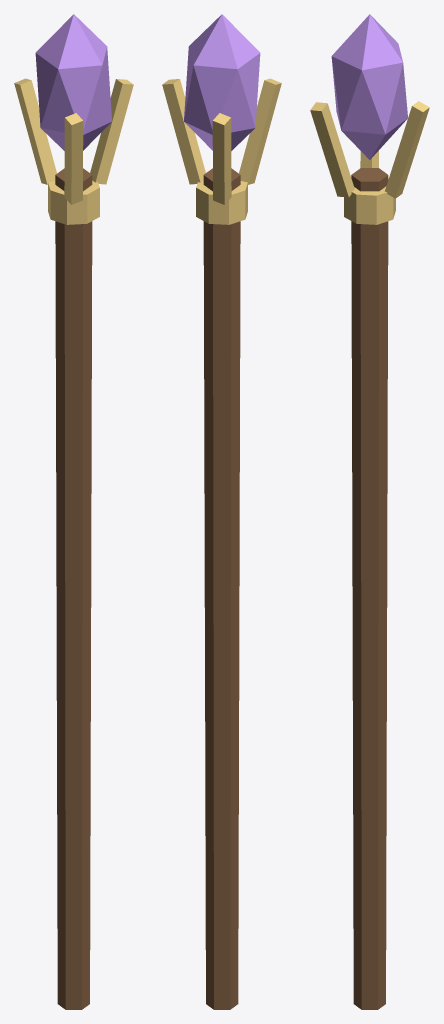
Rendered from Staff.fbx.
The picture shows the model from 3 angles, left to right: view 1: azimuth 30°, elevation 25°; view 2: azimuth 150°, elevation 25°; view 3: azimuth 330°, elevation 25°; orthographic projection.
Visible parts, largest first — view 1: W_Staff; view 2: W_Staff; view 3: W_Staff.
Part boxes in pixels (x1,y1,x2,y2): W_Staff: (14, 14, 133, 1009); W_Staff: (162, 14, 281, 1009); W_Staff: (310, 14, 429, 1009).
Size of the model in its own units: 0.193 by 2.03 by 0.2141.
